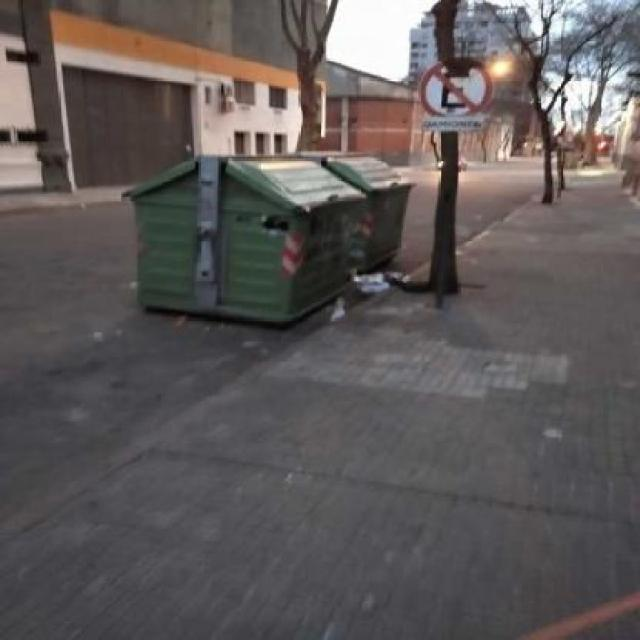garbage: (319, 263, 412, 320)
